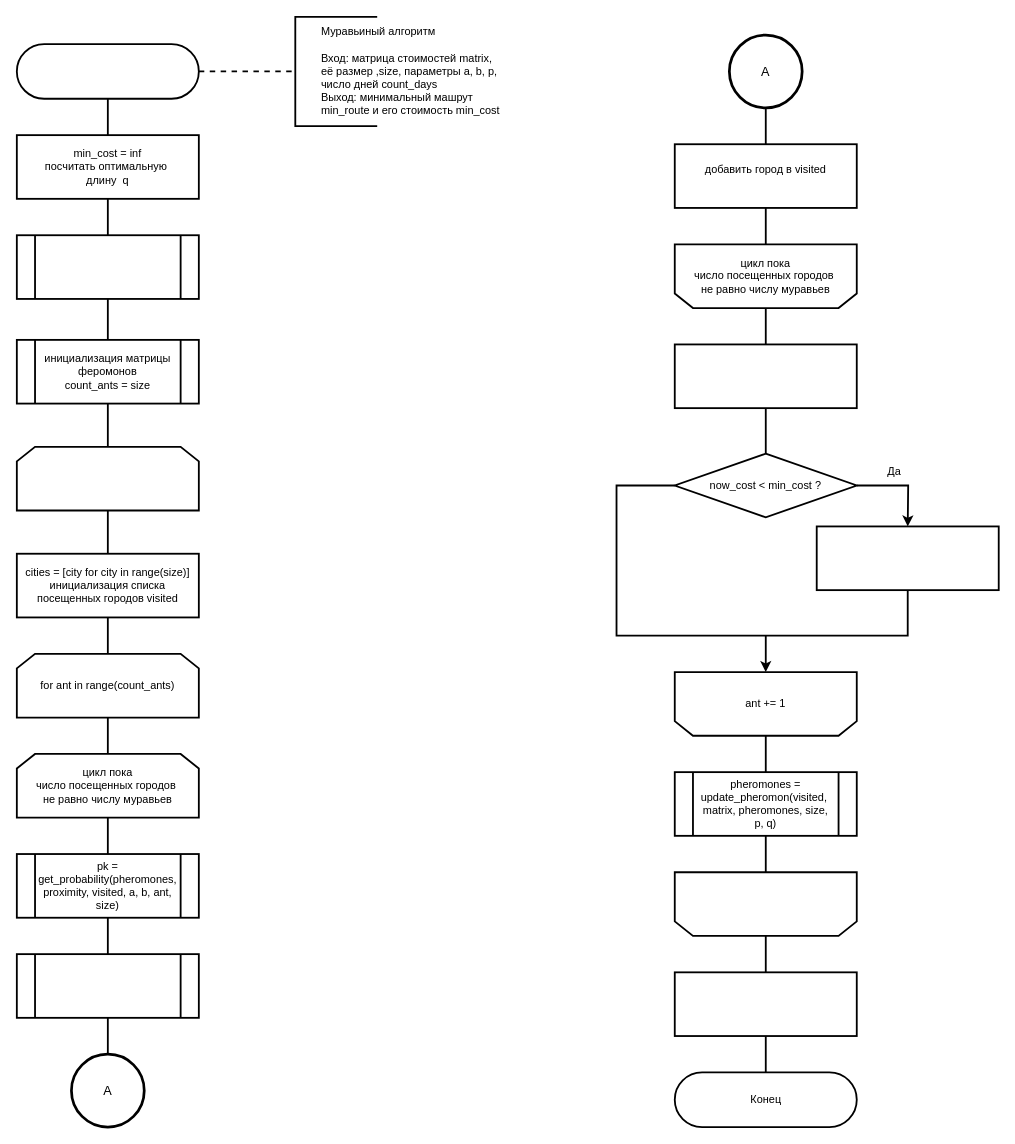
The diagram is 1015 pixels wide and 1144 high, and some of its shapes have lost their labels. The centre of each missing label's shape, as x and y in pixels:
"for i in range(count_days)" goes at point 107,478.
"i += 1" goes at point 765,903.
"min_cost = now_cost min_route = visited[ant]" goes at point 907,558.
"next_city = choose_city(pk)" goes at point 107,985.
"proximity = get_proximity(matrix, size)" goes at point 107,266.
"вернуть min_route, min_cost" goes at point 765,1003.
"замкнуть маршрут получить стоимость маршрута now_cost" goes at point 765,376.
"Начало" goes at point 107,71.
